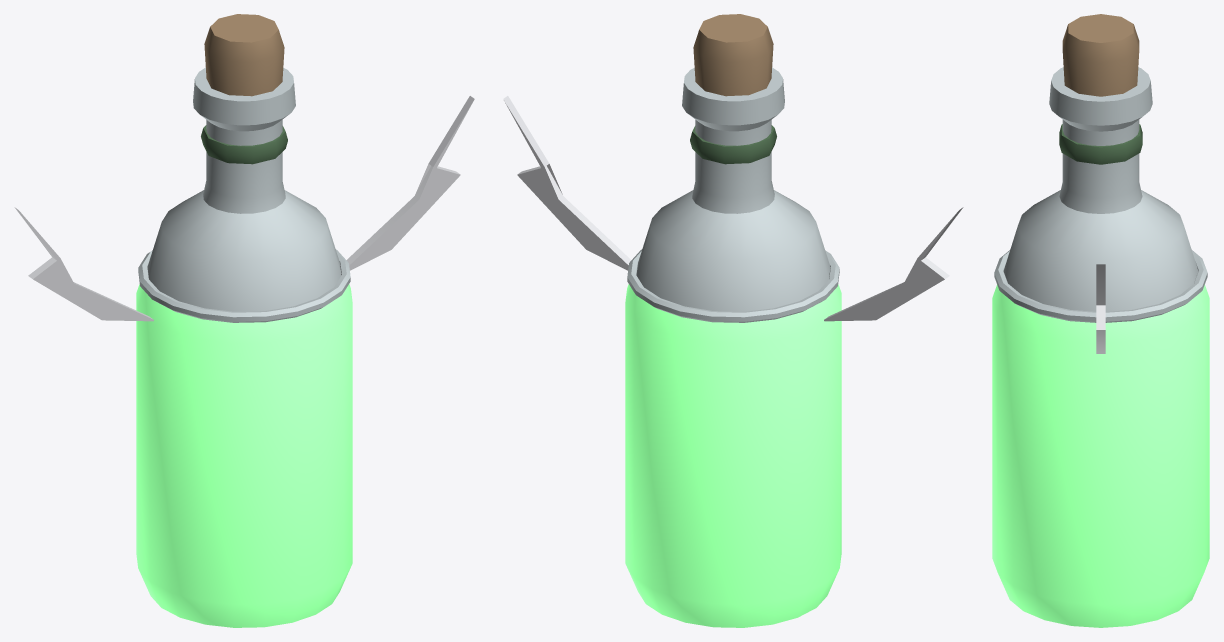
File: swiftfoot_tonic.glb
3 renders of one model, left to right at view 1: azimuth 30°, elevation 25°; view 2: azimuth 150°, elevation 25°; view 3: azimuth 270°, elevation 25°, orthographic.
Visible parts, largest first — view 1: swiftfoot_tonic; view 2: swiftfoot_tonic; view 3: swiftfoot_tonic.
Boxes of the visible parts, x1,y1,x2,y2 form: swiftfoot_tonic: (14,14,474,627); swiftfoot_tonic: (503,14,963,627); swiftfoot_tonic: (992,14,1209,627).
Size of the model in its own units: 0.1646 by 0.193 by 0.068.
